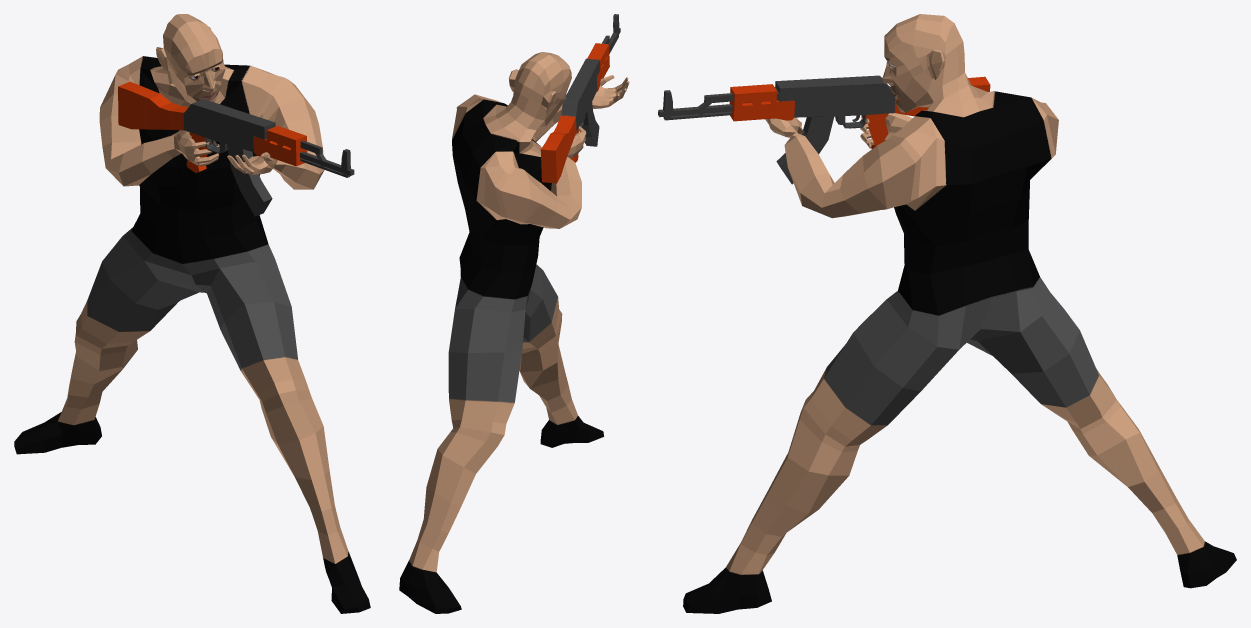
File: PlayerShoot(6).obj
3 renders of one model, left to right at view 1: azimuth 30°, elevation 25°; view 2: azimuth 150°, elevation 25°; view 3: azimuth 270°, elevation 25°, orthographic. The views are drawn at different scales.
Parts seen in each view (by area): view 1: Plane002, Object001; view 2: Plane002, Object001; view 3: Plane002, Object001.
Boxes of the visible parts, left/top/right/bottom form: Plane002: left=14, top=14, right=370, bottom=613; Object001: left=118, top=81, right=354, bottom=216; Plane002: left=399, top=52, right=629, bottom=613; Object001: left=540, top=14, right=620, bottom=183; Plane002: left=683, top=14, right=1236, bottom=613; Object001: left=658, top=75, right=990, bottom=184.
Size of the model in its own units: 536 by 1640 by 1536.
